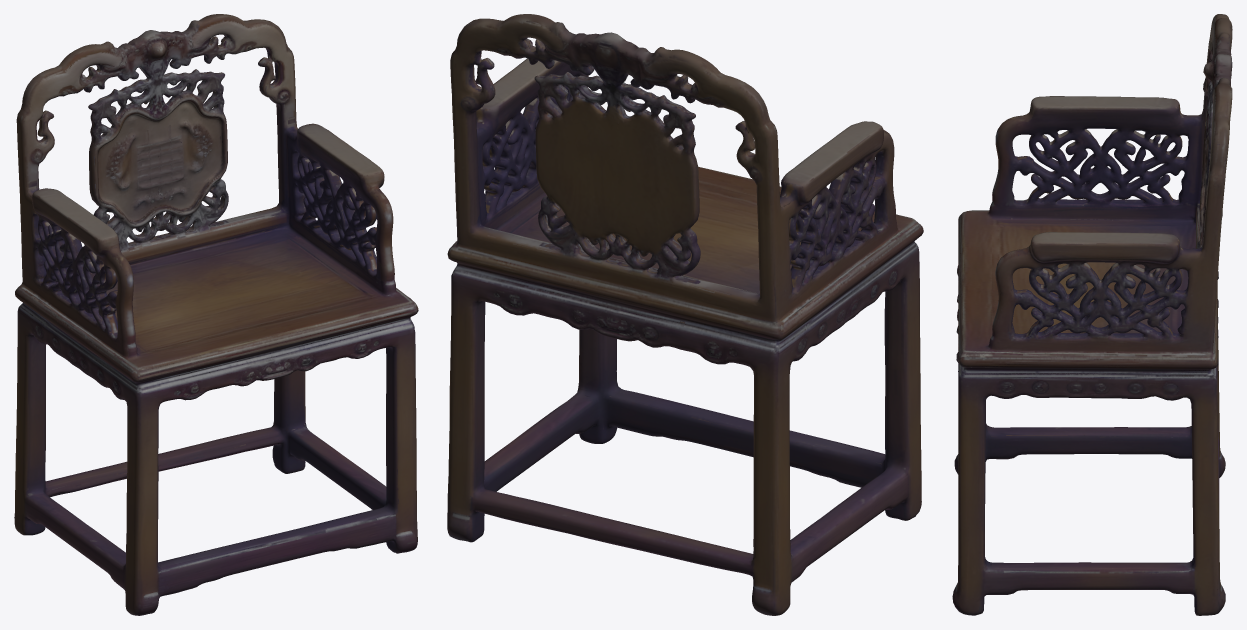
File: 老椅子.fbx
3 views of the same model, side by side, from view 1: azimuth 30°, elevation 25°; view 2: azimuth 150°, elevation 25°; view 3: azimuth 270°, elevation 25° (orthographic). The views are drawn at different scales.
Parts seen in each view (by area): view 1: 椅子l; view 2: 椅子l; view 3: 椅子l.
Part boxes in pixels (<box>): 椅子l: <box>14,14,418,615</box>; 椅子l: <box>447,14,923,615</box>; 椅子l: <box>952,14,1232,615</box>.
Size of the model in its own units: 61 by 94.13 by 48.82.
Materials: 1 (1 with a texture image).
